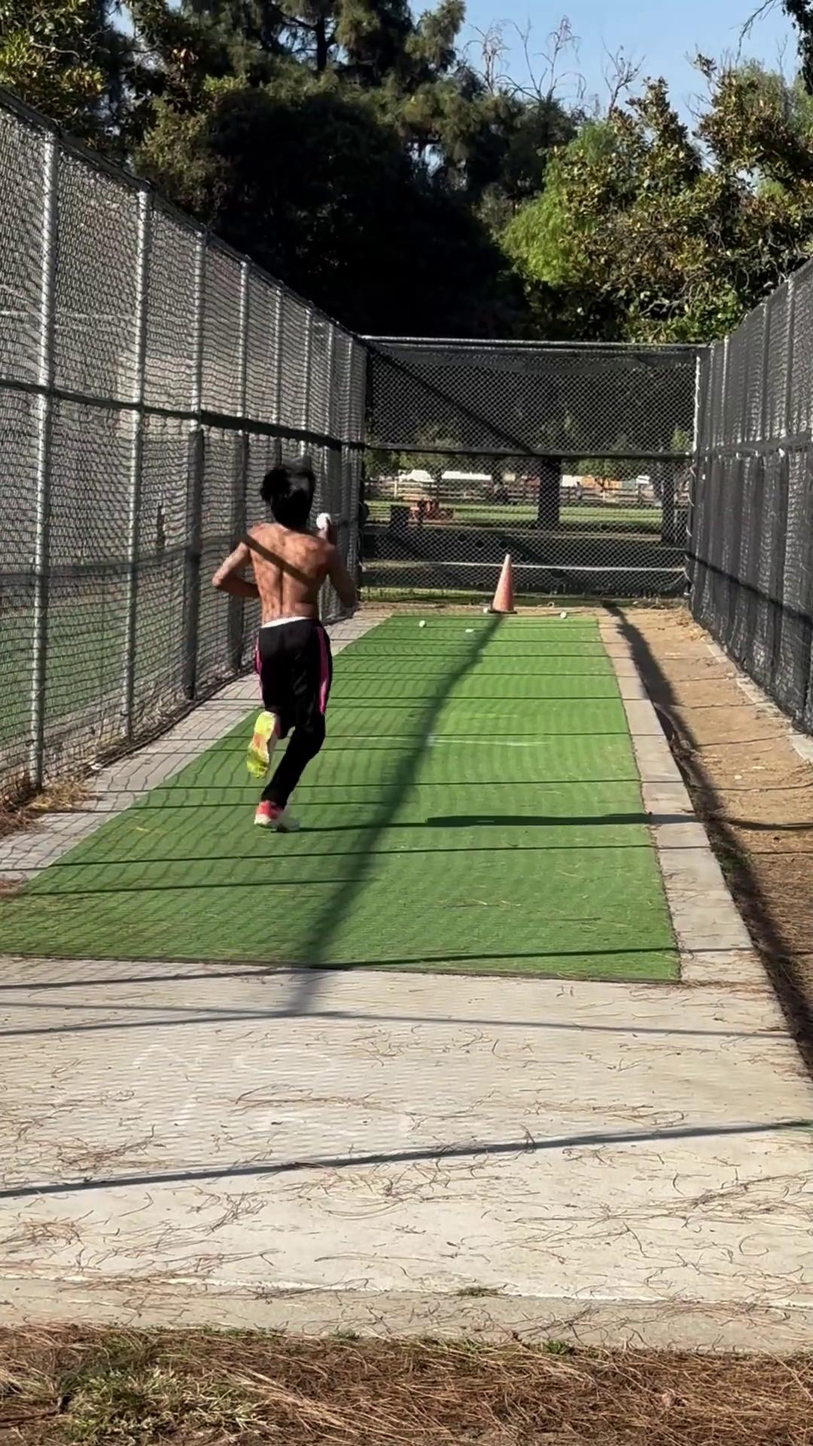ball: (311, 505, 337, 535)
